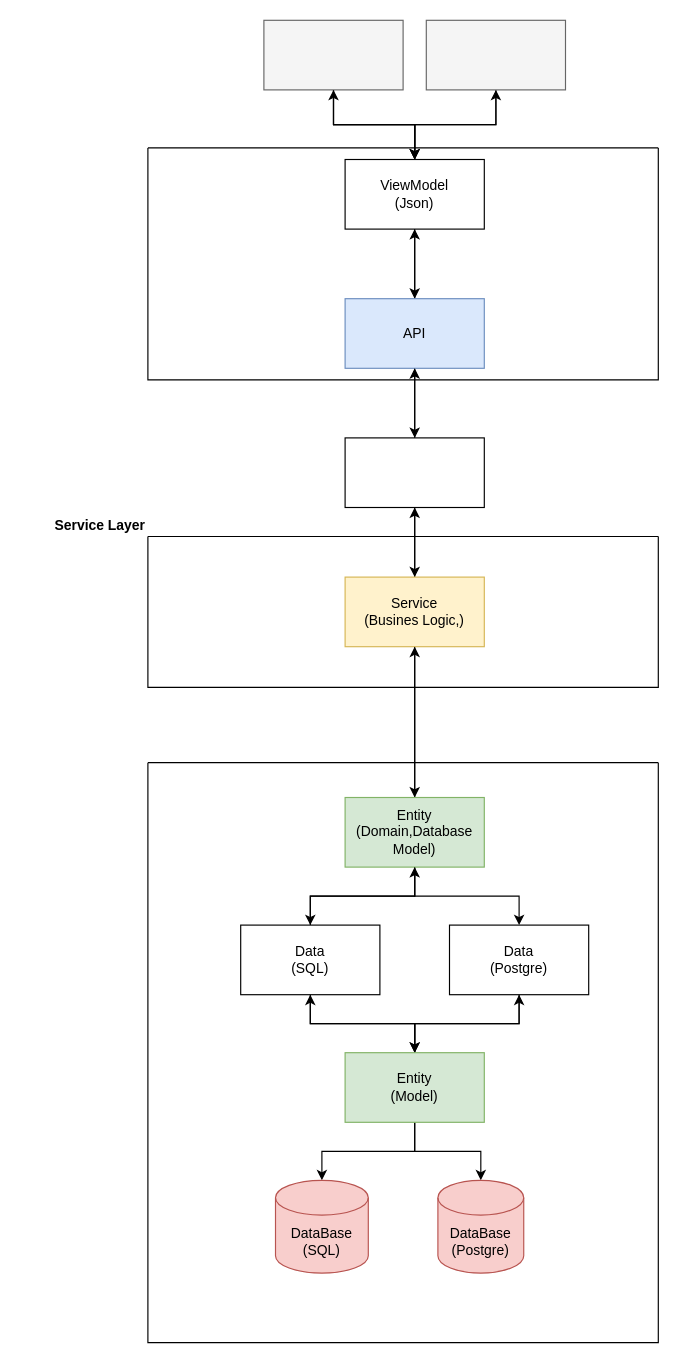
The diagram is 679 pixels wide and 1363 high, and some of its shapes have lost their labels. Each missing label, with the centre of its shape:
Browser (website): (x=333, y=54)
DATA Layer: (x=402, y=1052)
Mobile (APP): (x=495, y=54)
Presentation Layer: (x=402, y=263)
ViewModel (C#): (x=414, y=472)
